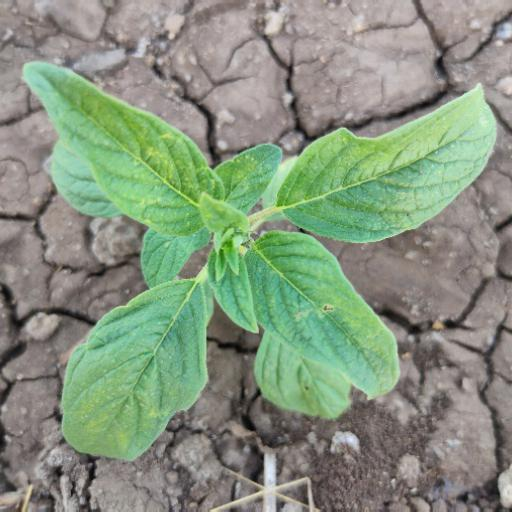crop: (23, 43, 495, 463)
